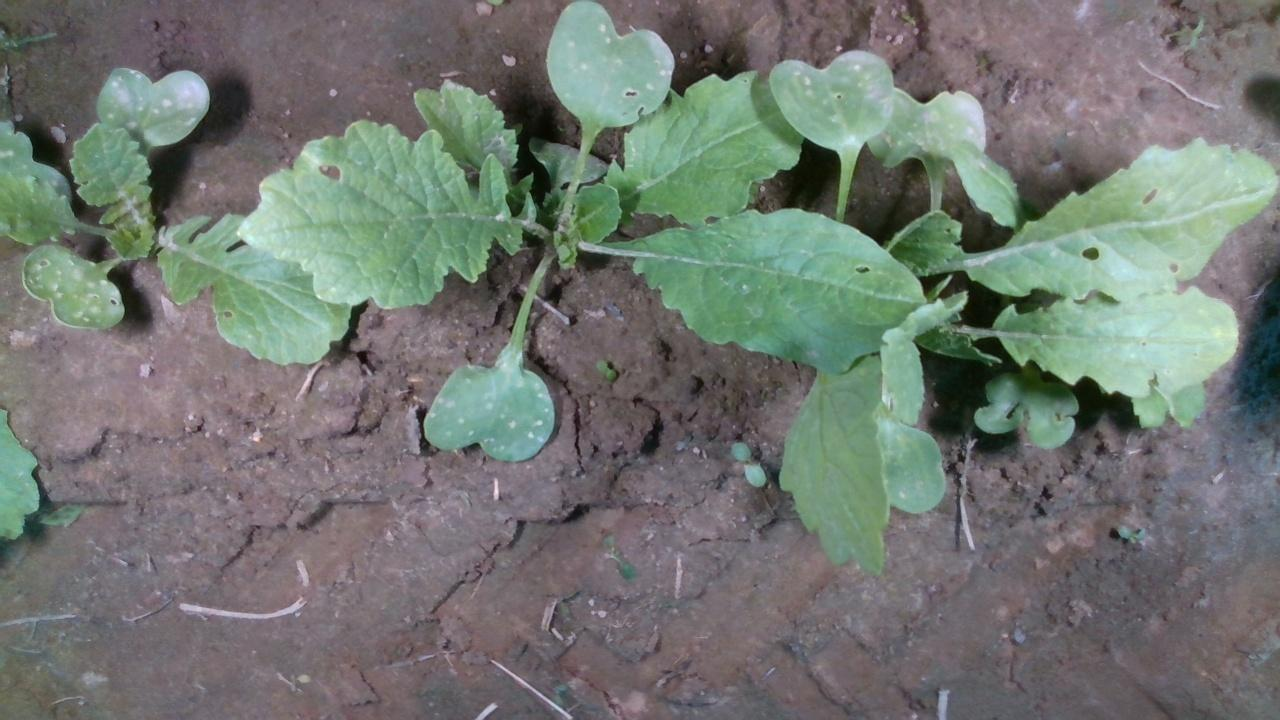weed: (728, 440, 767, 488), (593, 358, 617, 382)
